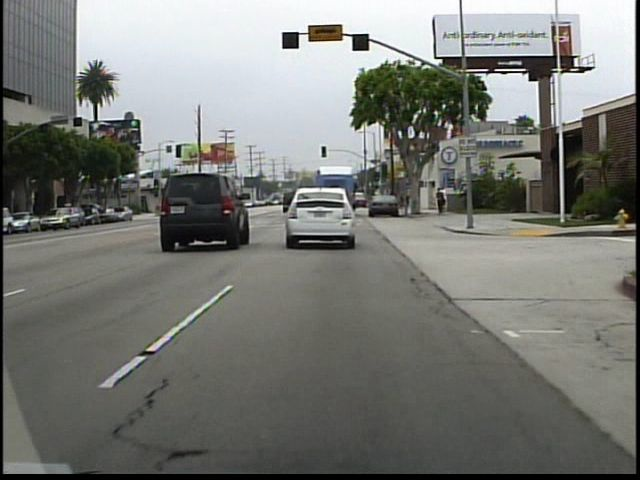person: (434, 187, 446, 217), (442, 186, 452, 214)
